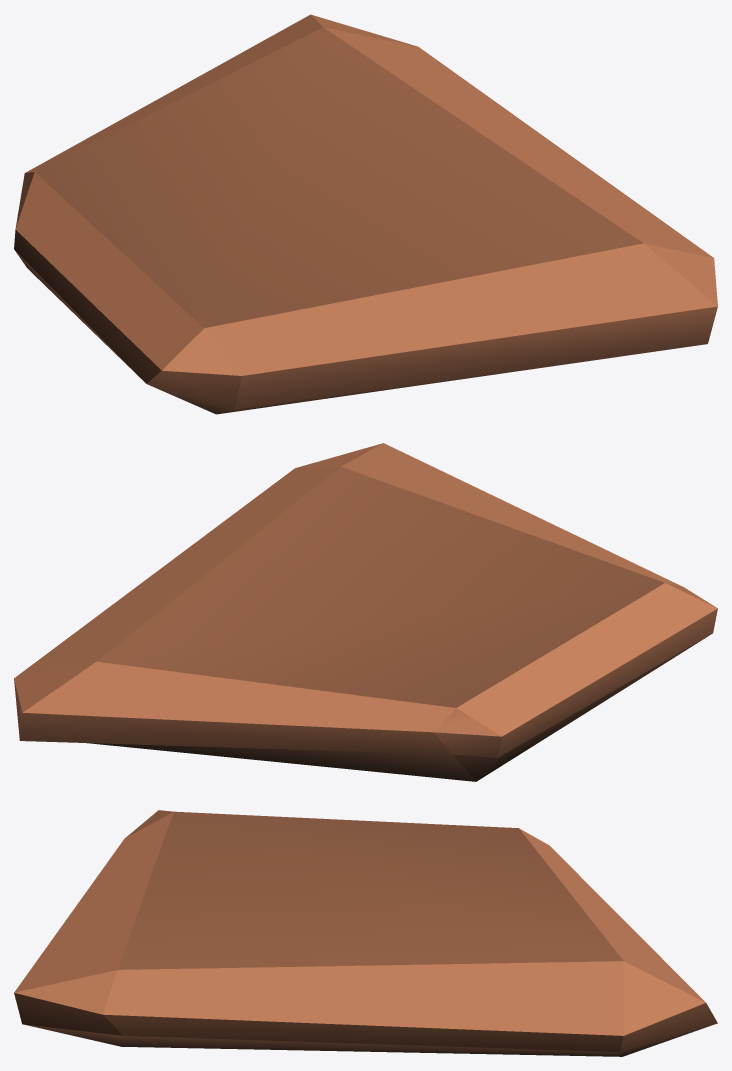
File: Rock 1.glb
3 renders of one model, top to bottom at view 1: azimuth 30°, elevation 25°; view 2: azimuth 150°, elevation 25°; view 3: azimuth 270°, elevation 25°, orthographic. The views are drawn at different scales.
Parts seen in each view (by area): view 1: Rock 1; view 2: Rock 1; view 3: Rock 1.
Part boxes in pixels (bbox=[...]): Rock 1: bbox=[14, 14, 717, 414]; Rock 1: bbox=[14, 443, 717, 781]; Rock 1: bbox=[14, 810, 717, 1056].
Size of the model in its own units: 2.11 by 0.3759 by 2.85.
Materials: 1 (1 with a texture image).
